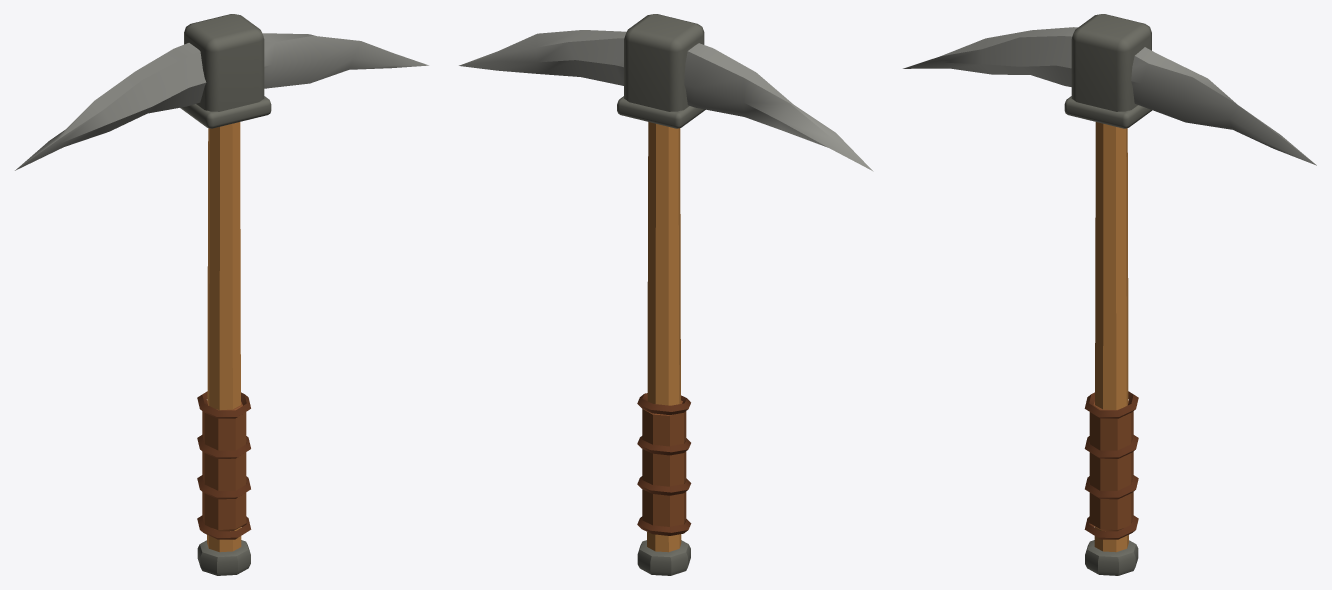
The model's file is StonePickaxe.fbx.
3 views of the same model, side by side, from view 1: azimuth 30°, elevation 25°; view 2: azimuth 150°, elevation 25°; view 3: azimuth 330°, elevation 25° (orthographic).
Visible parts, largest first — view 1: StonePickaxe; view 2: StonePickaxe; view 3: StonePickaxe.
Boxes of the visible parts, x1,y1,x2,y2 form: StonePickaxe: (15,14,428,575); StonePickaxe: (459,14,873,575); StonePickaxe: (903,14,1316,575).
Size of the model in its own units: 2.7 by 3.36 by 0.38.
Materials: 1 (1 with a texture image).
